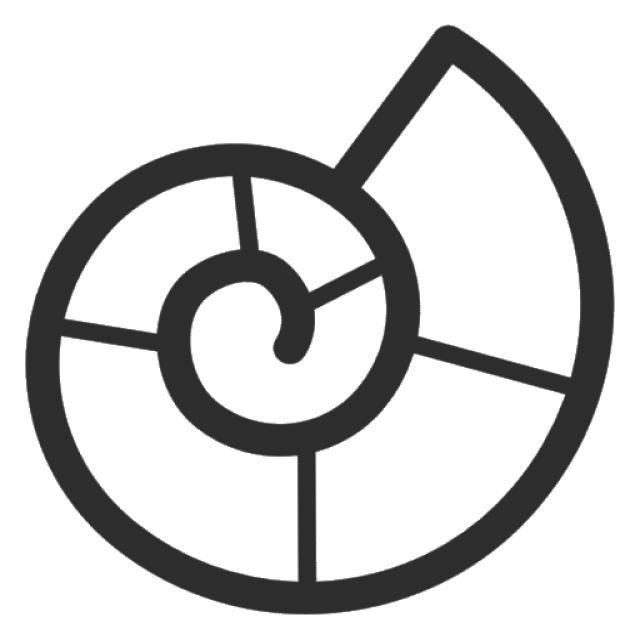fossil: (16, 22, 626, 632)
